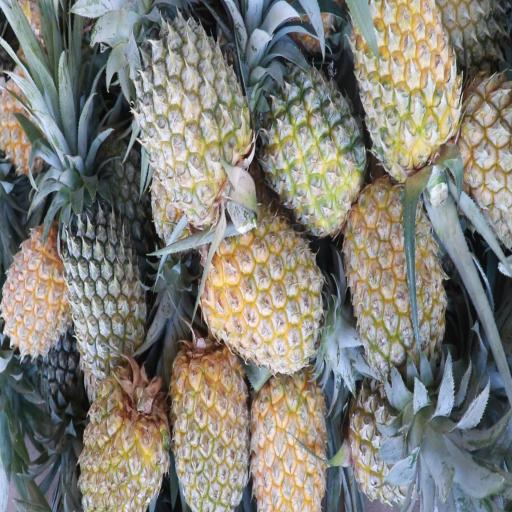------------------------------: (142, 17, 247, 211), (264, 66, 360, 230), (347, 381, 433, 504)
Pineapple - v8 v1: (205, 204, 323, 364), (350, 0, 458, 173), (342, 190, 444, 368), (172, 332, 251, 512), (80, 361, 170, 512), (253, 360, 330, 510), (3, 221, 76, 355), (0, 65, 56, 175)
